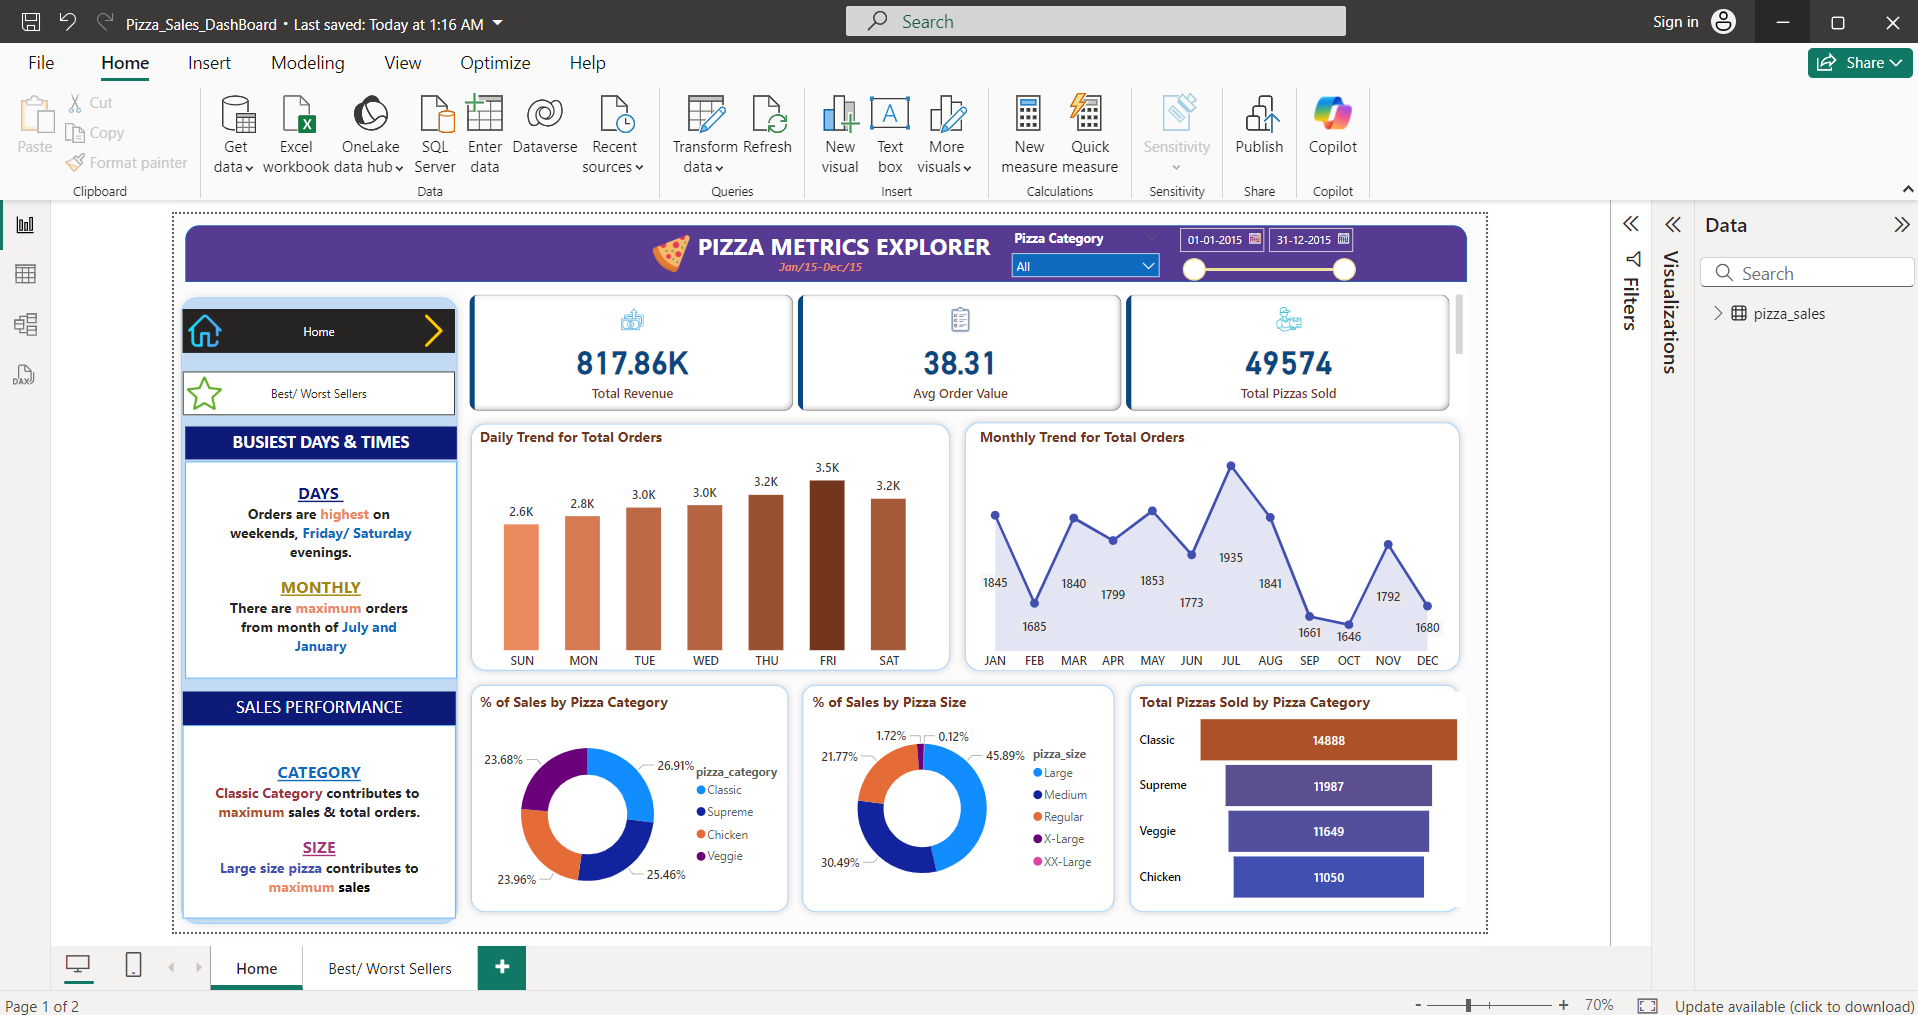

Layout of this report page (visuals, bound fields, positions):
{"tool":"powerbi","page":{"name":"Home","canvas":[1500,820],"ordinal":0},"visuals":[{"type":"shape","box":[12.5,12.5,1465,65],"z":0},{"type":"textbox","box":[585,12.5,360,50],"z":1000},{"type":"textbox","box":[686.2,46.2,117.5,31.2],"z":2000},{"type":"image","box":[541.2,18.8,53.8,53.8],"z":3000},{"type":"shape","box":[0,87.8,332.2,732.2],"z":4000},{"type":"cardVisual","fields":{"Data":["pizza_sales.Total Revenue","pizza_sales.Avg Order Value","pizza_sales.Total Pizzas Sold","pizza_sales.Total Orders","pizza_sales.Avg Pizzas Per Order"]},"box":[332.5,87.5,1145,143],"z":5000},{"type":"shape","box":[331.8,231.8,563.6,298.5],"z":6000},{"type":"columnChart","title":"Daily Trend for Total Orders","fields":{"Category":["pizza_sales.Order Day"],"Y":["pizza_sales.Total Orders"]},"box":[343.9,242.4,527.3,287.9],"z":7000},{"type":"shape","box":[895.5,230.3,581.8,300],"z":8000},{"type":"stackedAreaChart","title":"Monthly Trend for Total Orders","fields":{"Category":["pizza_sales.Order Month"],"Y":["pizza_sales.Total Orders"]},"box":[915.4,243.1,540,287.7],"z":9000},{"type":"shape","box":[331.8,530.3,378.8,275.8],"z":10000},{"type":"shape","box":[710.6,530.3,372.7,275.8],"z":11000},{"type":"shape","box":[1084.8,530.3,392.4,275.8],"z":12000},{"type":"donutChart","title":"% of Sales by Pizza Category","fields":{"Category":["pizza_sales.pizza_category"],"Y":["pizza_sales.Total Revenue"]},"box":[344,546,366,260],"z":13000},{"type":"donutChart","title":"% of Sales by Pizza Size","fields":{"Y":["pizza_sales.Total Revenue"],"Category":["pizza_sales.pizza_size"]},"box":[724,546,342,246],"z":14000},{"type":"funnel","title":"Total Pizzas Sold by Pizza Category","fields":{"Y":["pizza_sales.Total Pizzas Sold"],"Category":["pizza_sales.pizza_category"]},"box":[1098,546,378,246],"z":15000},{"type":"textbox","box":[12.2,242.2,310,37.8],"z":16000},{"type":"textbox","box":[12.2,282.2,310,247.8],"z":17000},{"type":"textbox","box":[10,545.6,312.2,38.9],"z":18000},{"type":"textbox","box":[10,584.4,312.2,221.1],"z":19000},{"type":"slicer","fields":{"Values":["pizza_sales.pizza_category"]},"box":[947.8,12.2,188.9,65.6],"z":20000},{"type":"qnaVisual","box":[1350,84,150,150],"z":21000},{"type":"slicer","fields":{"Values":["pizza_sales.order_date"]},"box":[1136.7,5.6,221.1,72.2],"z":22000},{"type":"pageNavigator","box":[10,108.3,311.7,50],"z":23000},{"type":"pageNavigator","box":[10,180,311.7,50],"z":24000},{"type":"image","box":[273.3,108.3,48.3,50],"z":25000},{"type":"image","box":[11.7,108.3,48.3,50],"z":26000},{"type":"image","box":[10,180,50,50],"z":27000}]}

Visuals, with their boxes on the page's 1500x820 design canvas (x1, y1, x2, y2). These are canvas units, not pixel positions in the 1918x1015 screenshot, which may show the page scaled, cropped or inside an application window:
shape: bbox=[12, 12, 1478, 78]
textbox: bbox=[585, 12, 945, 62]
textbox: bbox=[686, 46, 804, 77]
image: bbox=[541, 19, 595, 73]
shape: bbox=[0, 88, 332, 820]
cardVisual - pizza_sales.Total Revenue x pizza_sales.Avg Order Value: bbox=[332, 88, 1478, 230]
shape: bbox=[332, 232, 895, 530]
"Daily Trend for Total Orders" columnChart: bbox=[344, 242, 871, 530]
shape: bbox=[896, 230, 1477, 530]
"Monthly Trend for Total Orders" stackedAreaChart: bbox=[915, 243, 1455, 531]
shape: bbox=[332, 530, 711, 806]
shape: bbox=[711, 530, 1083, 806]
shape: bbox=[1085, 530, 1477, 806]
"% of Sales by Pizza Category" donutChart: bbox=[344, 546, 710, 806]
"% of Sales by Pizza Size" donutChart: bbox=[724, 546, 1066, 792]
"Total Pizzas Sold by Pizza Category" funnel: bbox=[1098, 546, 1476, 792]
textbox: bbox=[12, 242, 322, 280]
textbox: bbox=[12, 282, 322, 530]
textbox: bbox=[10, 546, 322, 584]
textbox: bbox=[10, 584, 322, 806]
slicer - pizza_sales.pizza_category: bbox=[948, 12, 1137, 78]
qnaVisual: bbox=[1350, 84, 1500, 234]
slicer - pizza_sales.order_date: bbox=[1137, 6, 1358, 78]
pageNavigator: bbox=[10, 108, 322, 158]
pageNavigator: bbox=[10, 180, 322, 230]
image: bbox=[273, 108, 322, 158]
image: bbox=[12, 108, 60, 158]
image: bbox=[10, 180, 60, 230]
